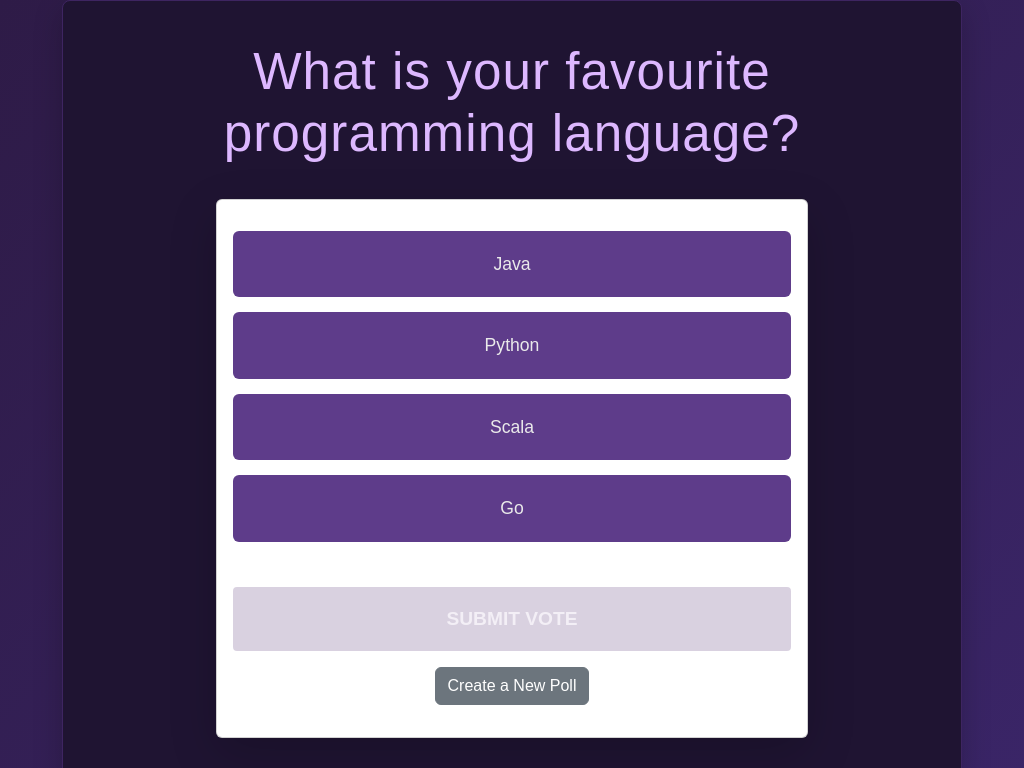
it: submitting vote updates results
What coordinates should you click on to do the following:
click the text "Java"
I would click on:
 (512, 264)
Its box is top-left (493, 251), bottom-right (531, 277).
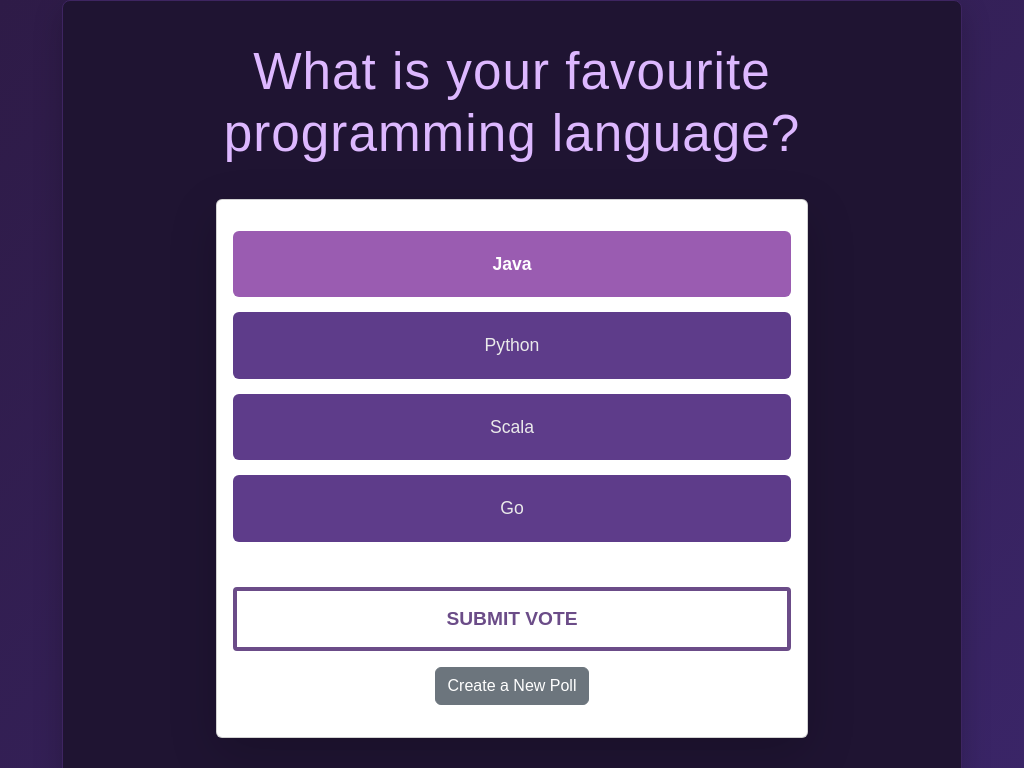
What coordinates should you click on to do the following:
click the button "SUBMIT VOTE"
I would click on:
 (512, 619)
Its box is top-left (233, 587), bottom-right (791, 651).
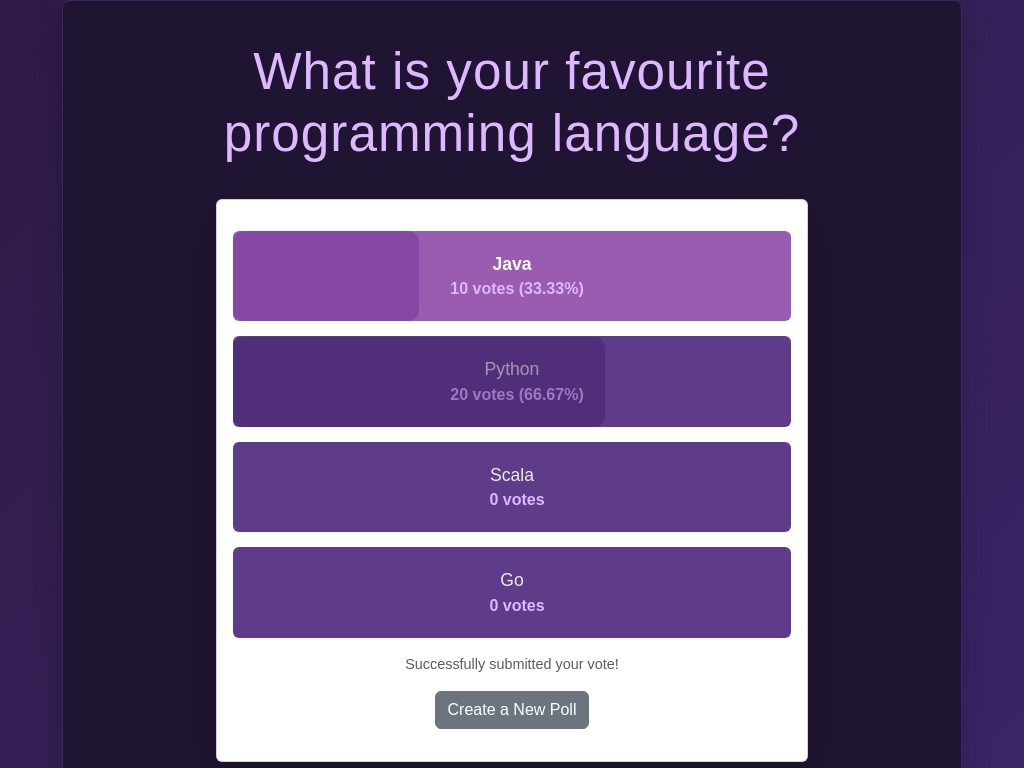
Expected: the text "Successfully submitted your vote!" is shown, top-left (405, 656), bottom-right (619, 672)
Expected: the text "10 votes (33.33%)" is shown, top-left (450, 277), bottom-right (584, 301)
Expected: the text "20 votes (66.67%)" is shown, top-left (450, 383), bottom-right (584, 407)
